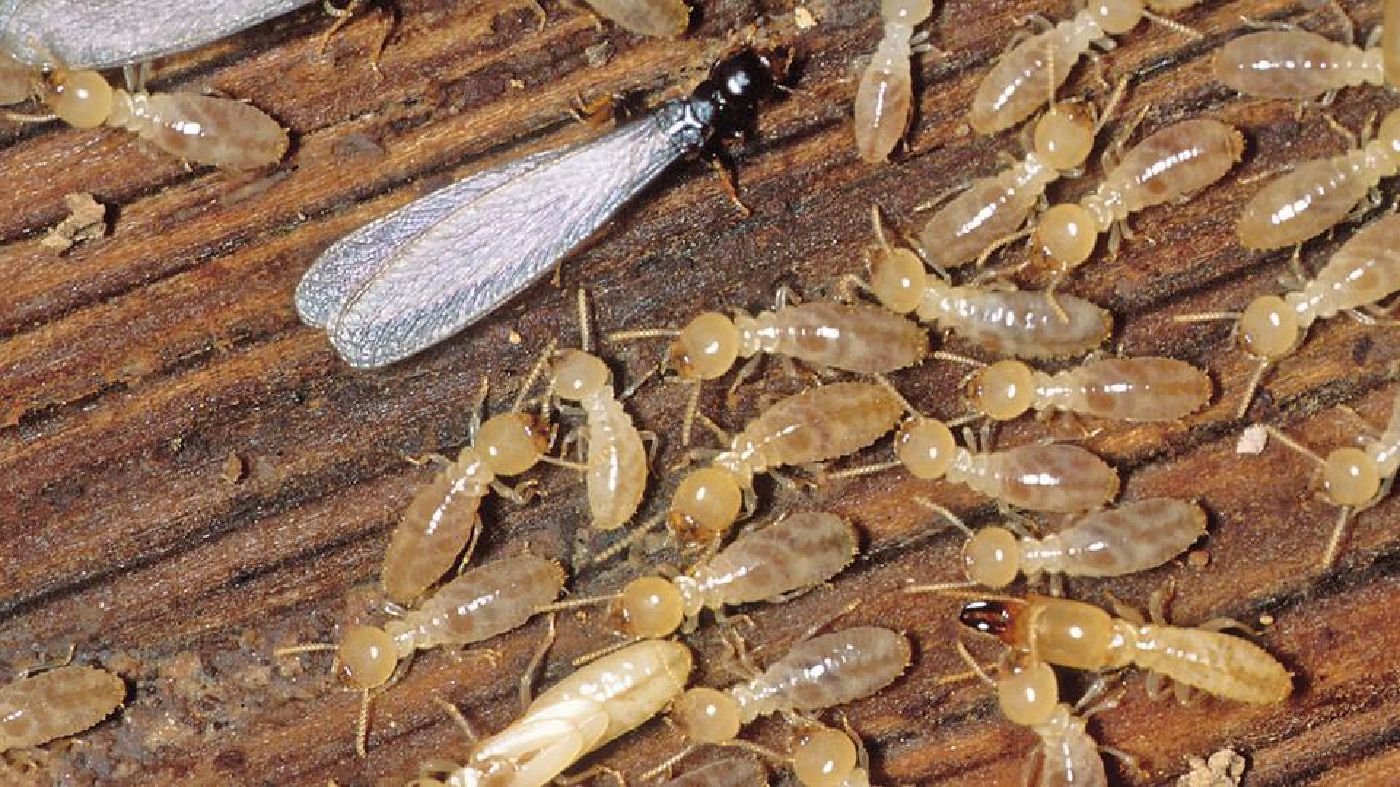flying termite: (282, 25, 813, 372)
